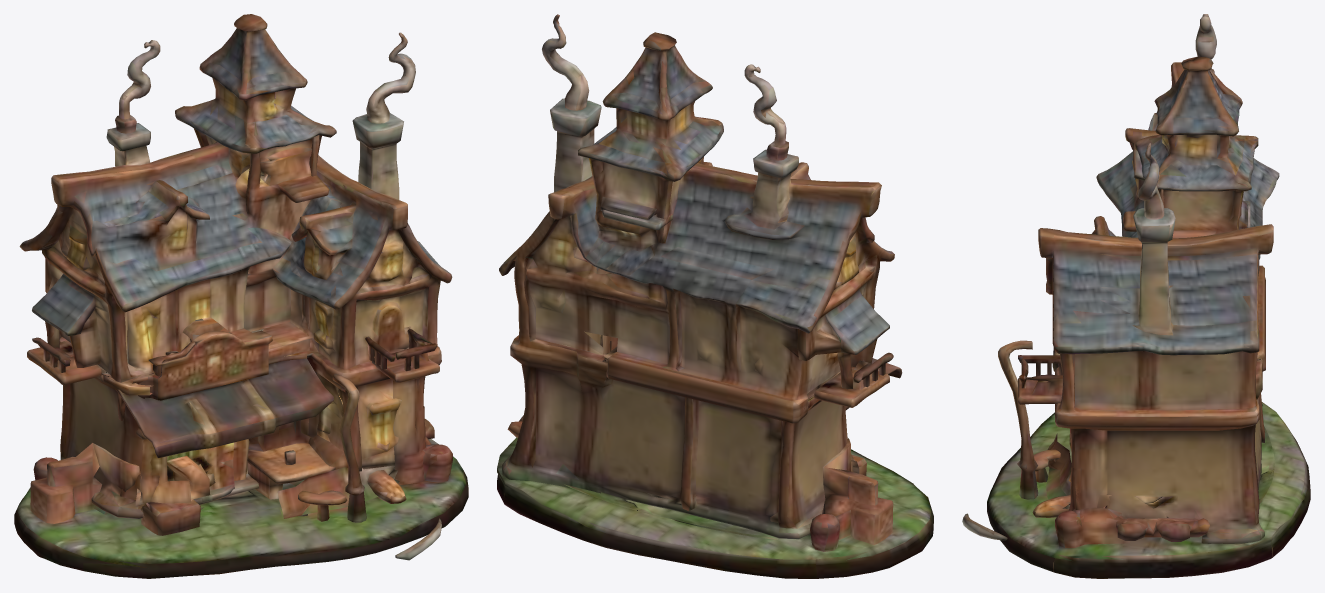
File: rustic_stein.glb
3 views of the same model, side by side, from view 1: azimuth 30°, elevation 25°; view 2: azimuth 150°, elevation 25°; view 3: azimuth 270°, elevation 25° (orthographic). The views are drawn at different scales.
Parts seen in each view (by area): view 1: Meshy_Mesh_0.005; view 2: Meshy_Mesh_0.005; view 3: Meshy_Mesh_0.005.
Boxes of the visible parts, x1=… form: Meshy_Mesh_0.005: x1=14, y1=14, x2=468, y2=578; Meshy_Mesh_0.005: x1=497, y1=14, x2=933, y2=578; Meshy_Mesh_0.005: x1=962, y1=14, x2=1310, y2=578.
Bounding box in the file's own units: 1.55 × 1.74 × 1.22.
Materials: 1 (1 with a texture image).
